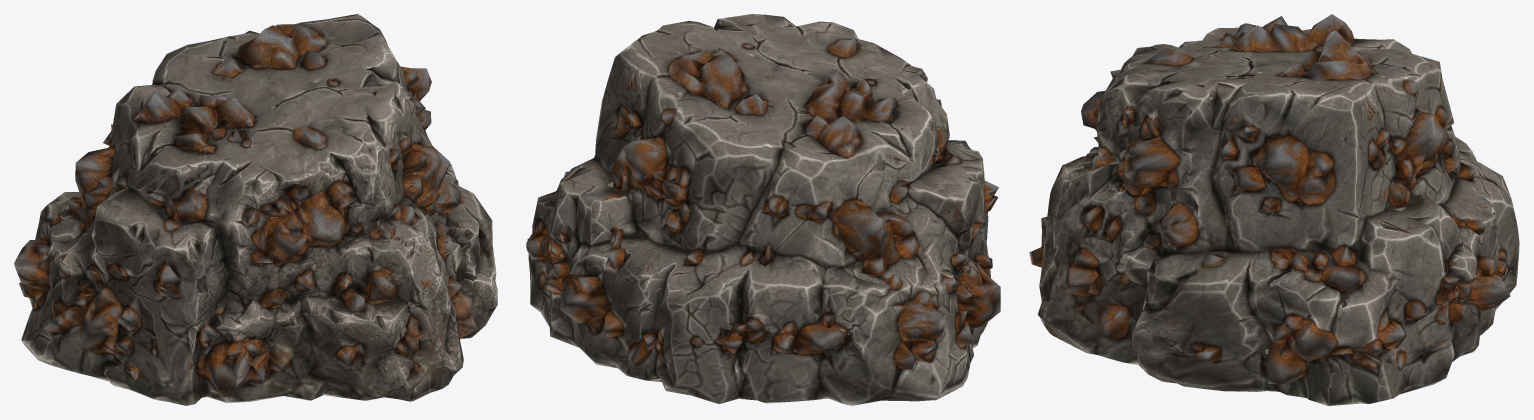
The model's file is bastion-hill.glb.
3 views of the same model, side by side, from view 1: azimuth 30°, elevation 25°; view 2: azimuth 150°, elevation 25°; view 3: azimuth 270°, elevation 25° (orthographic). The views are drawn at different scales.
Size of the model in its own units: 1.88 by 1.15 by 1.81.
Materials: 1 (1 with a texture image).
